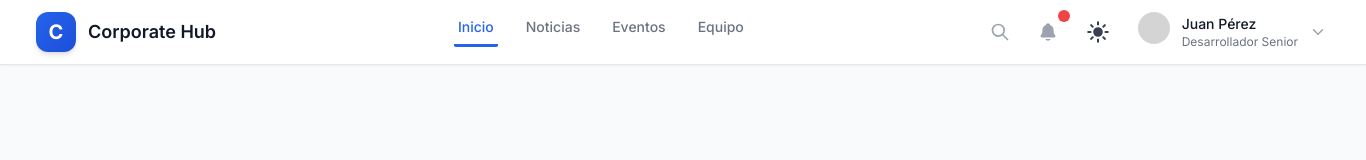
Test: UnifiedNavbar › hides navigation and shows search when search is expanded
The width and height of the screenshot is (1366, 160).
# Click search icon
Click the button named "Abrir búsqueda".
click(1000, 32)  # box [982,14,1018,50]
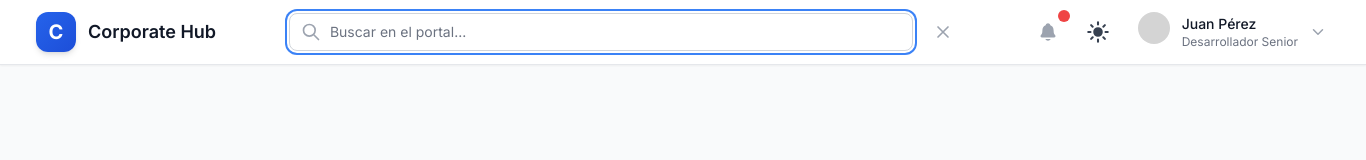
Check: the tab "Inicio" is gone
Check: the search field named "Campo de búsqueda" is shown, box [289,13,913,51]
Check: the button named "Cerrar búsqueda" is shown, box [925,14,961,50]
